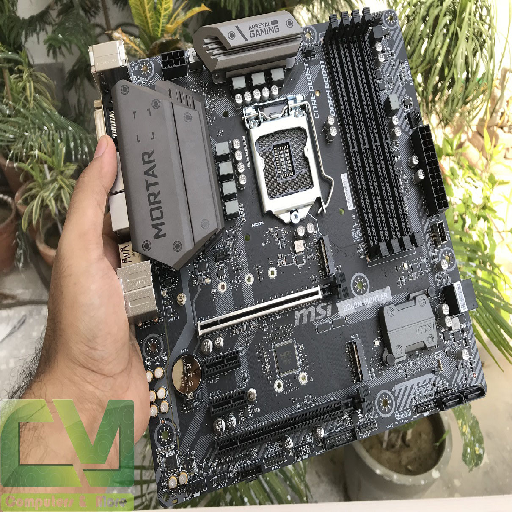CPU: (241, 108, 326, 223)
GPU: (211, 385, 372, 450), (197, 271, 350, 333)
MOTHERBOARD: (85, 10, 492, 494)
RAM: (321, 8, 424, 262)
SSD: (346, 336, 374, 385), (316, 235, 337, 278)
